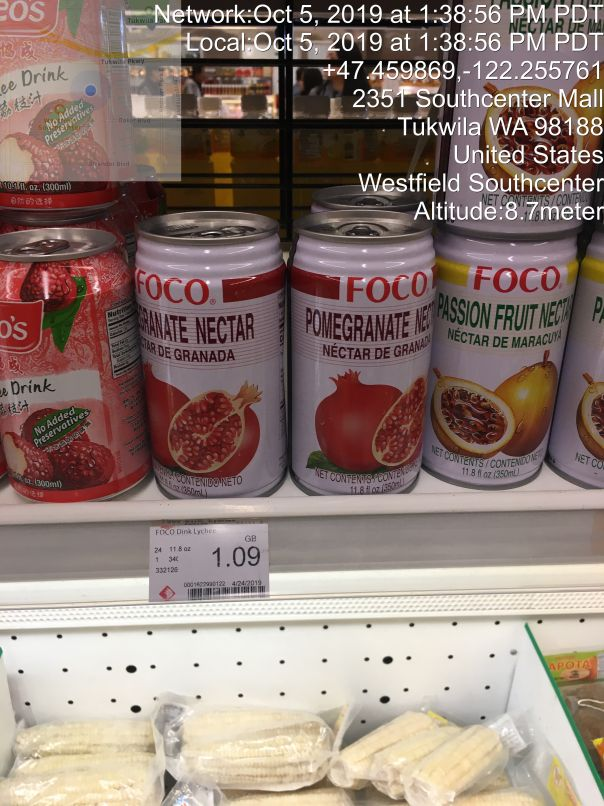Foco Drink: (131, 203, 299, 504), (287, 199, 436, 496), (426, 196, 575, 493)
Label: (138, 515, 284, 612)
Location: (343, 81, 604, 197)
Time: (142, 1, 599, 69)
